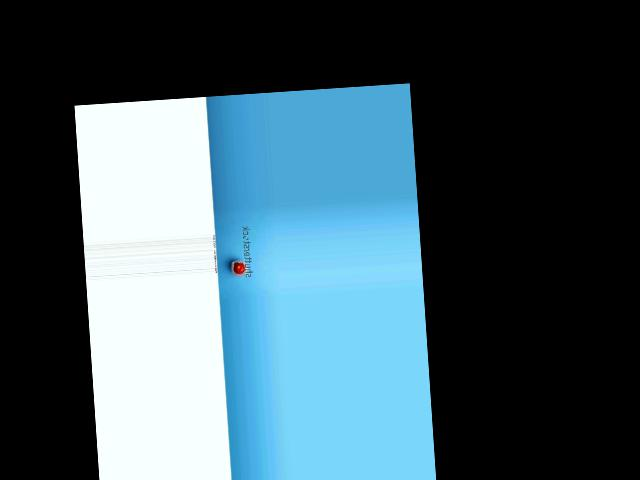tomato: (233, 262, 244, 273)
